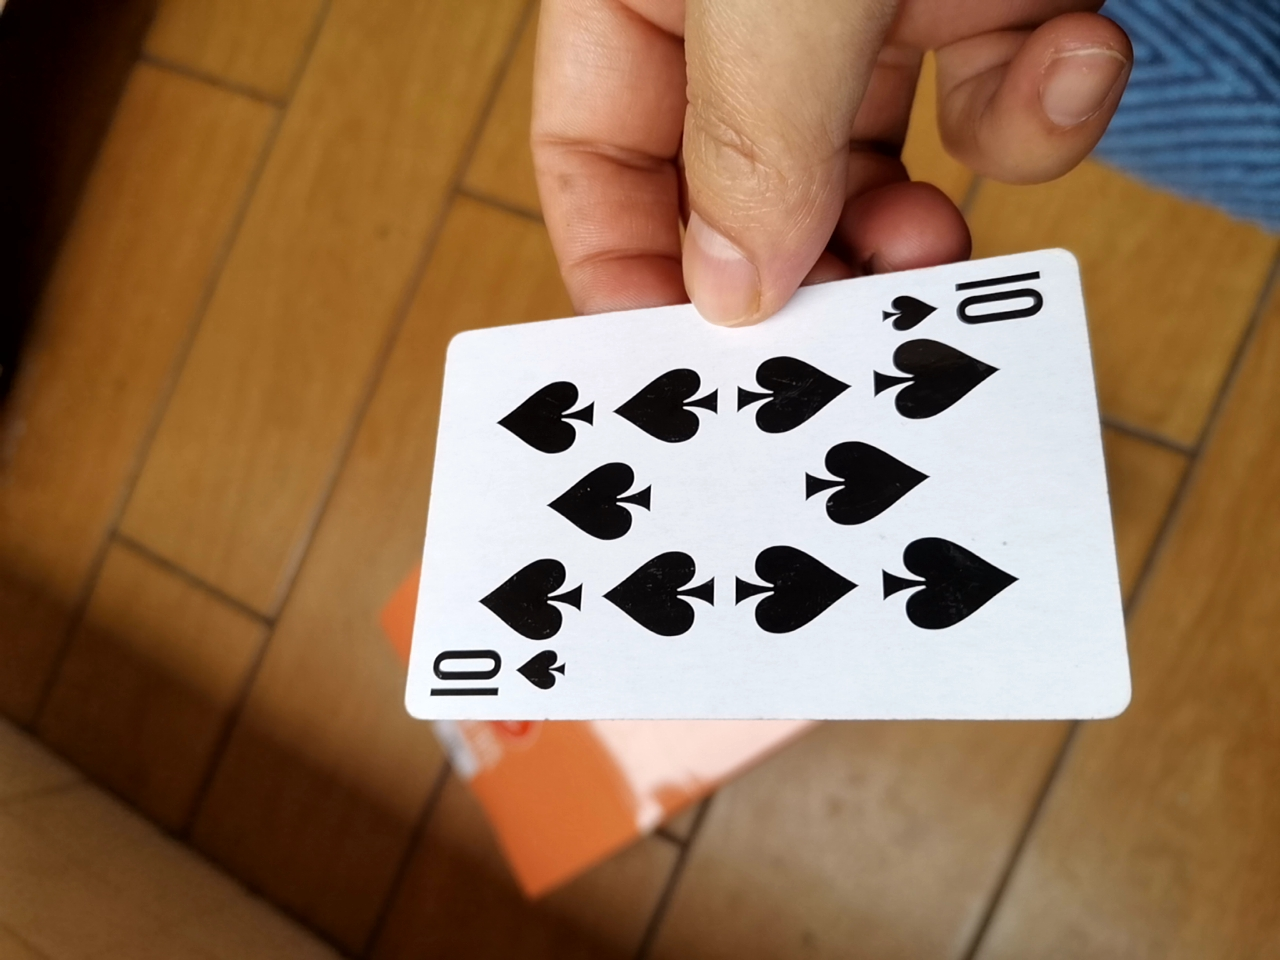ht 10: (388, 249, 1120, 757)
